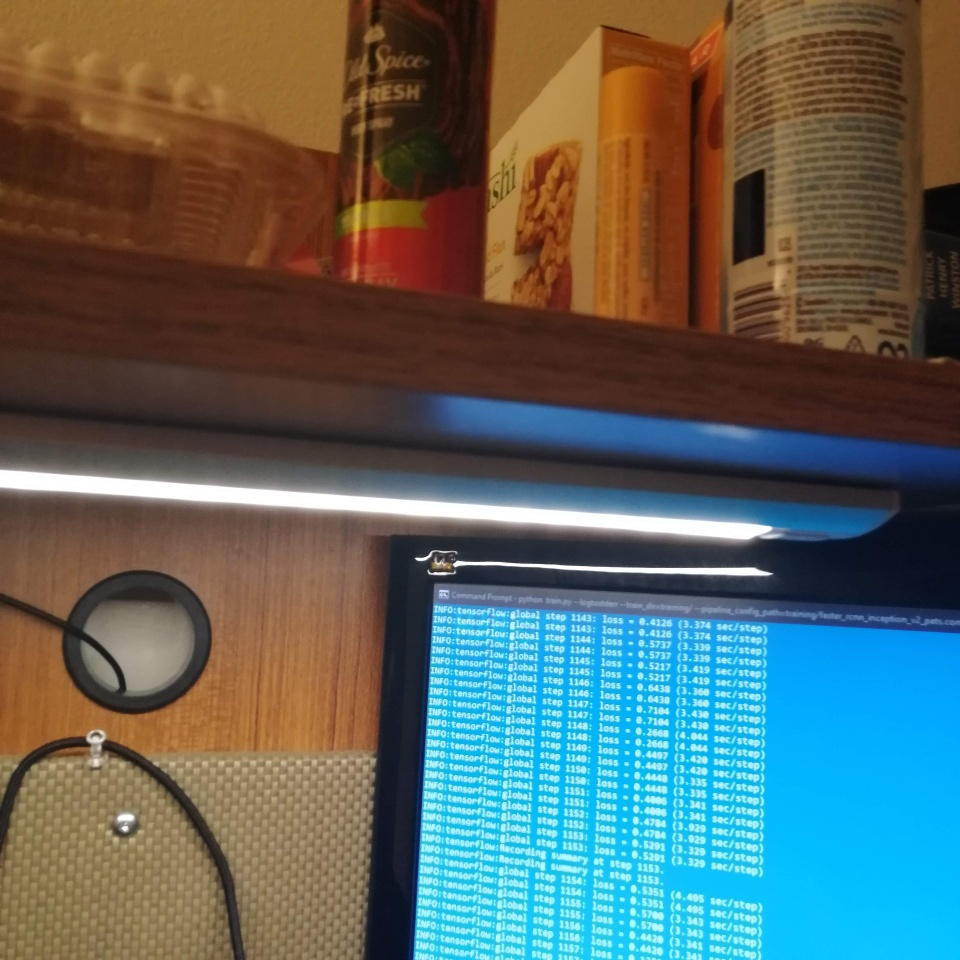chapstick: (596, 64, 666, 333)
